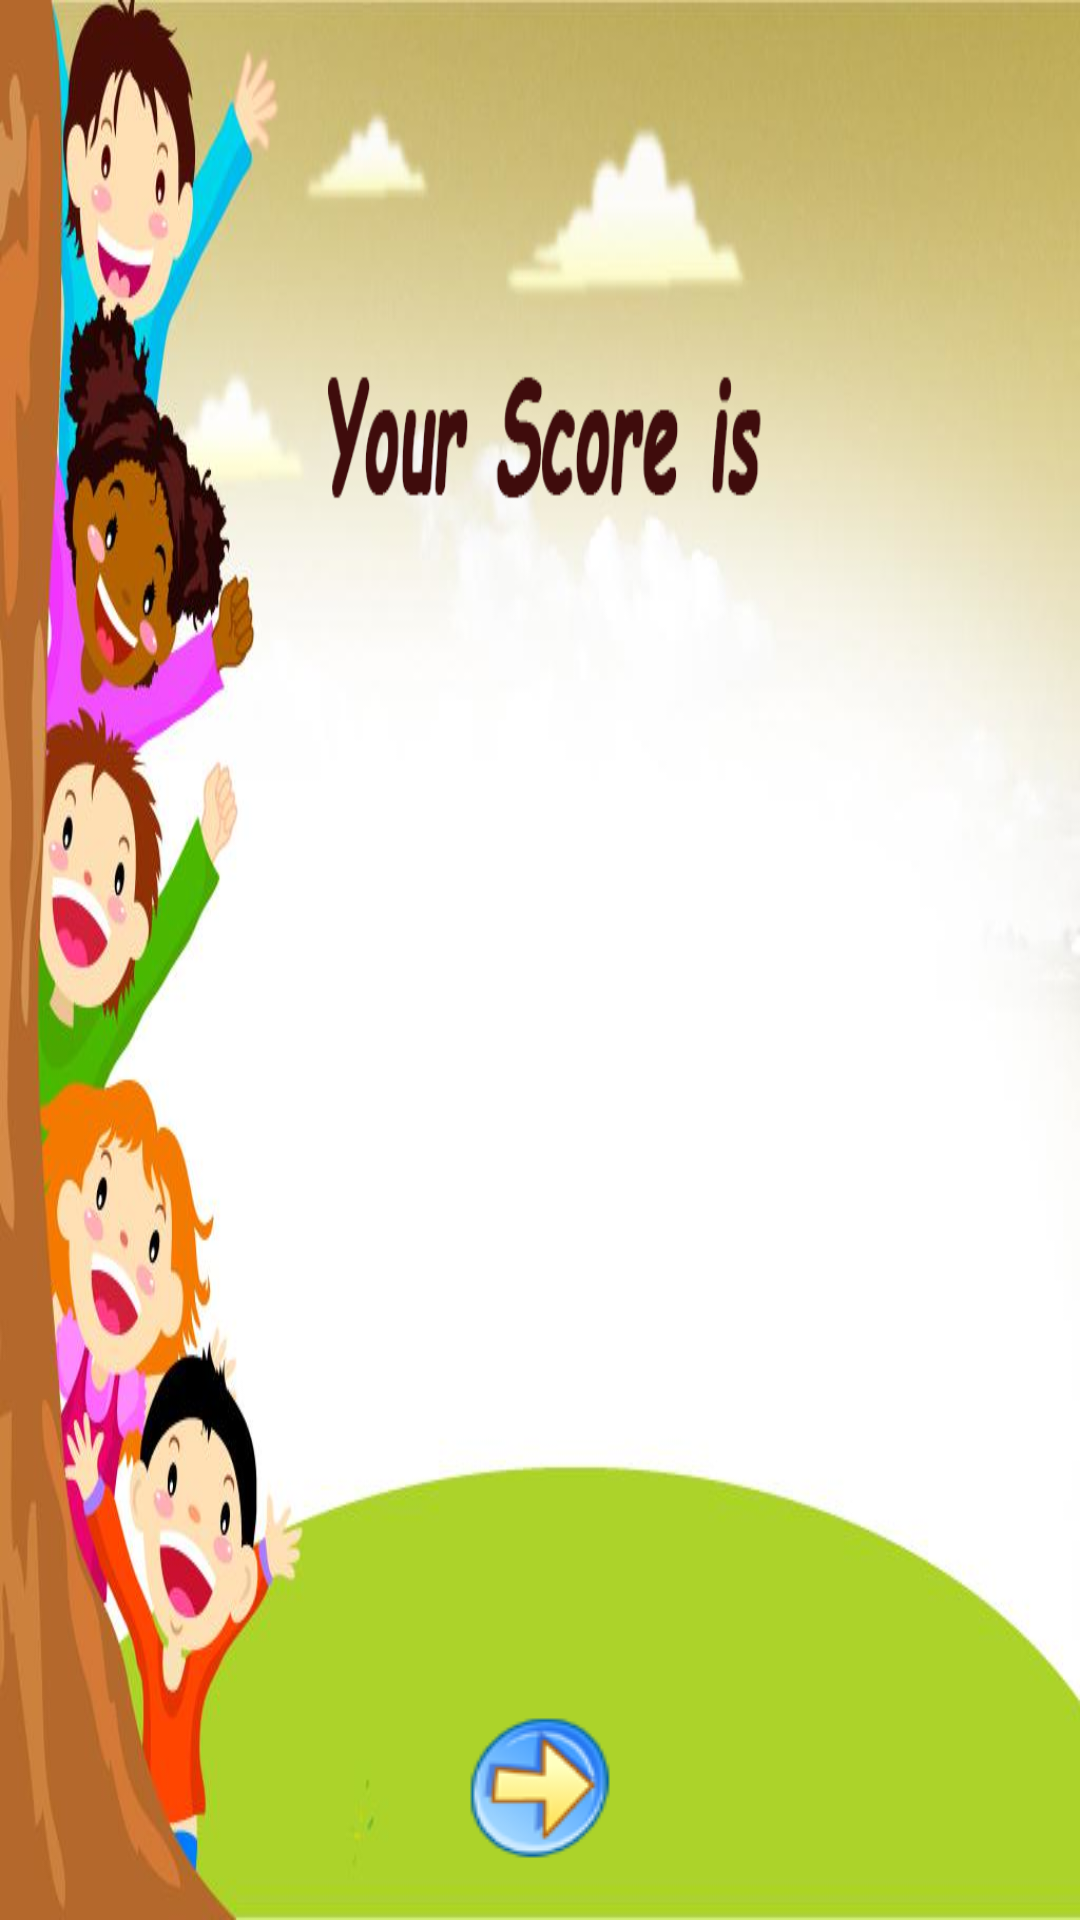

Point at icon controls on the screen. Image size 1080w x 1920h, points as (x=x, y=y).
forward: (x=540, y=1788)
